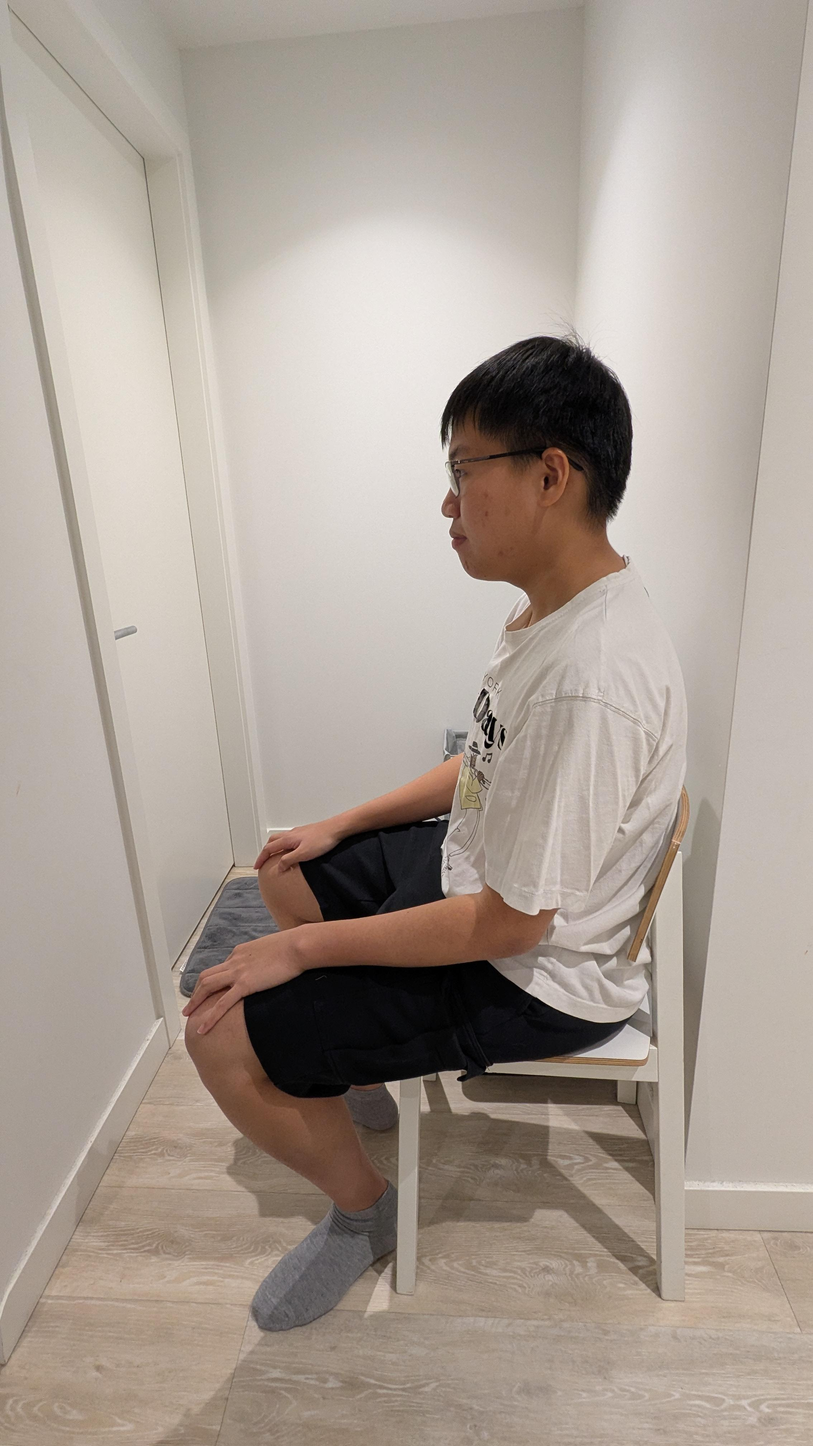GoodPosture: (183, 331, 688, 1331)
